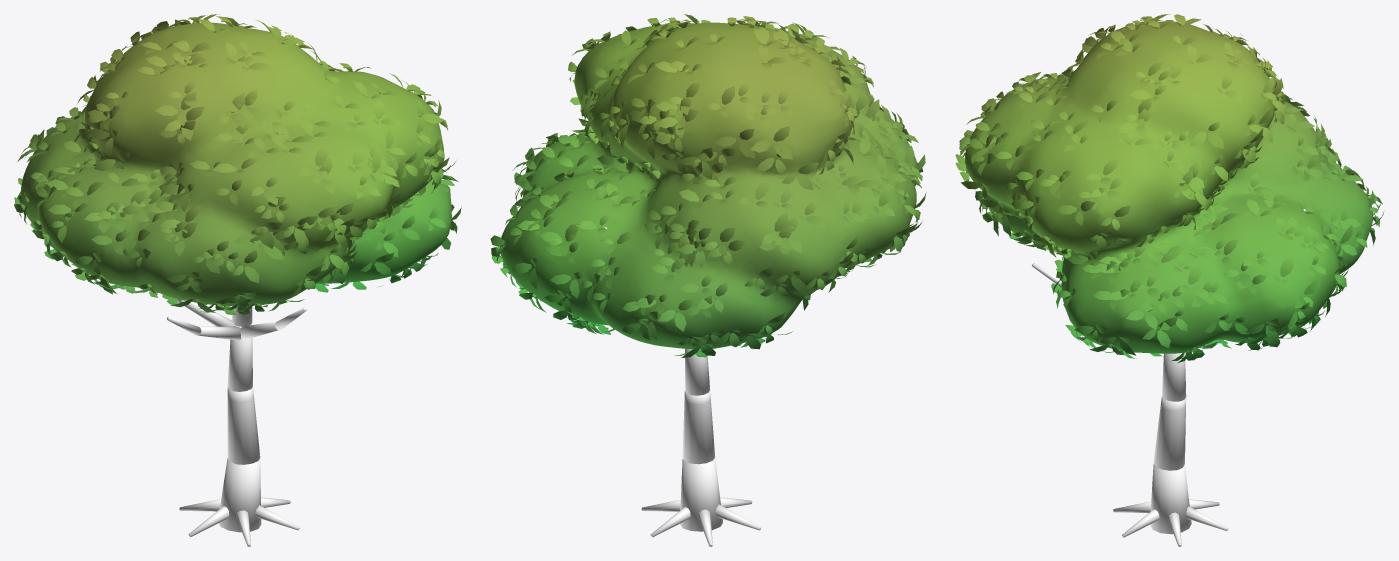
File: beech_canopy_2.glb
The picture shows the model from 3 angles, left to right: view 1: azimuth 30°, elevation 25°; view 2: azimuth 150°, elevation 25°; view 3: azimuth 270°, elevation 25°; orthographic projection. The views are drawn at different scales.
Visible parts, largest first — view 1: beech_canopy_2_Leaves, beech_canopy_2_Bark, beech_canopy_2_UpperBranches; view 2: beech_canopy_2_Leaves, beech_canopy_2_Bark, beech_canopy_2_UpperBranches; view 3: beech_canopy_2_Leaves, beech_canopy_2_Bark, beech_canopy_2_UpperBranches.
Part boxes in pixels (x1,y1,x2,y2): beech_canopy_2_Leaves: (14, 14, 461, 315); beech_canopy_2_Bark: (179, 397, 299, 546); beech_canopy_2_UpperBranches: (167, 299, 306, 401); beech_canopy_2_Leaves: (490, 14, 926, 357); beech_canopy_2_Bark: (641, 399, 761, 546); beech_canopy_2_UpperBranches: (603, 227, 710, 404); beech_canopy_2_Leaves: (955, 14, 1383, 363); beech_canopy_2_Bark: (1113, 406, 1228, 546); beech_canopy_2_UpperBranches: (1032, 209, 1305, 410).
Size of the model in its own units: 13.89 by 16.43 by 13.36.
